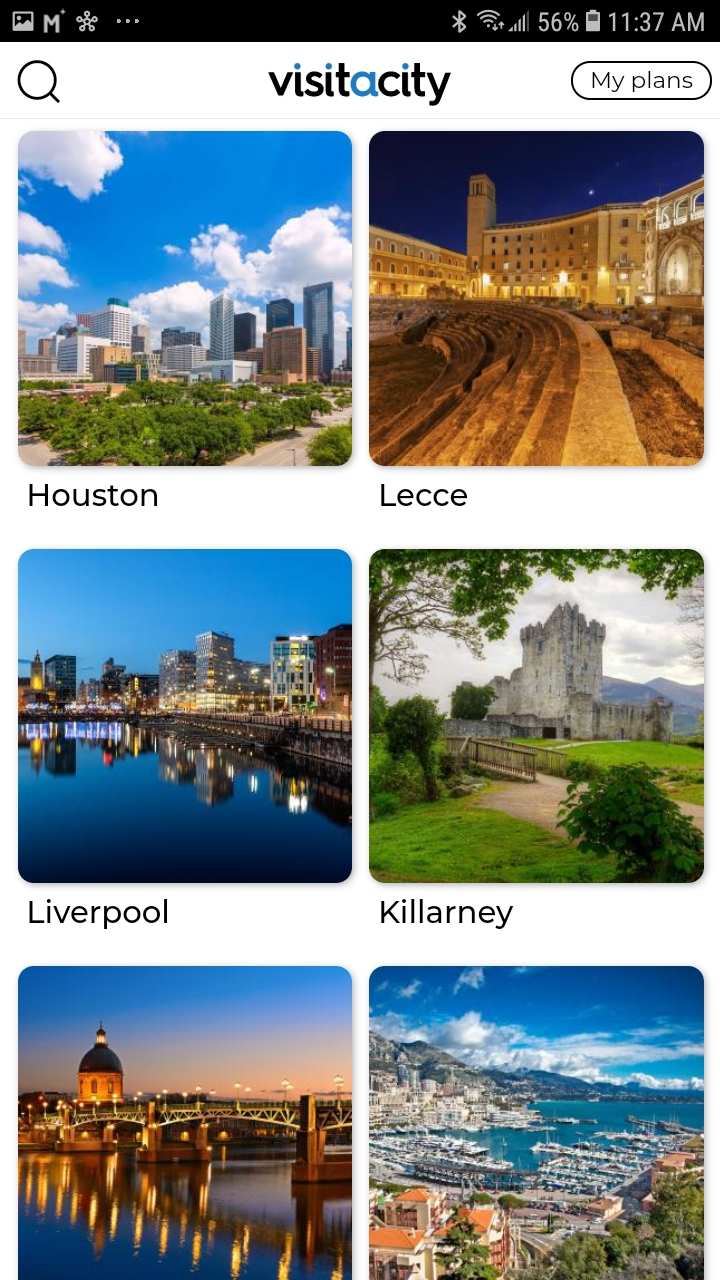Icon: (17, 60, 61, 104)
Image: (369, 131, 705, 467), (369, 549, 705, 884), (18, 131, 353, 467), (18, 549, 353, 884), (369, 965, 705, 1280), (18, 966, 353, 1280), (268, 63, 452, 108)
Text: (29, 898, 169, 930), (380, 898, 514, 930), (30, 484, 159, 508), (381, 484, 468, 508)
TextButton: (571, 62, 713, 102)
UpperTaskBar: (1, 1, 720, 43)
